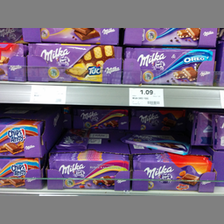chocolate: (123, 45, 218, 87), (26, 43, 122, 84), (134, 159, 214, 192), (49, 159, 131, 191), (1, 122, 44, 156), (1, 158, 43, 187)
